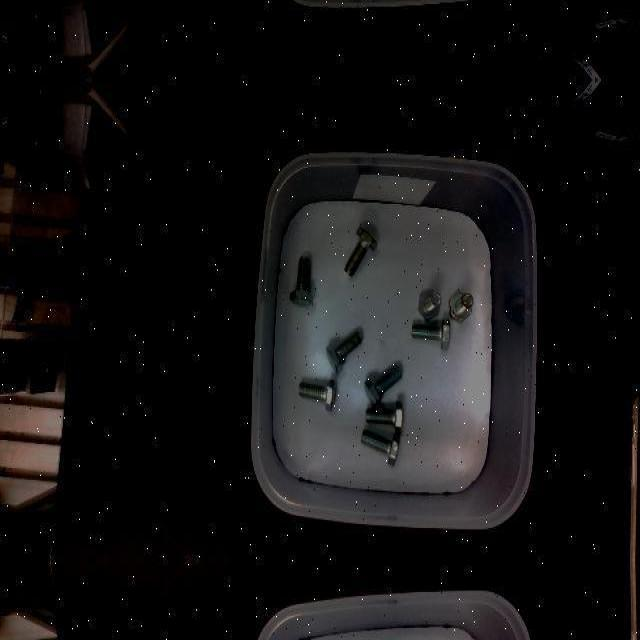screw: (344, 225, 377, 275), (364, 367, 402, 409), (325, 331, 362, 373), (360, 428, 400, 466), (411, 318, 450, 350), (365, 402, 403, 434), (298, 379, 336, 411), (290, 256, 313, 306), (448, 291, 473, 323), (418, 287, 441, 321)
